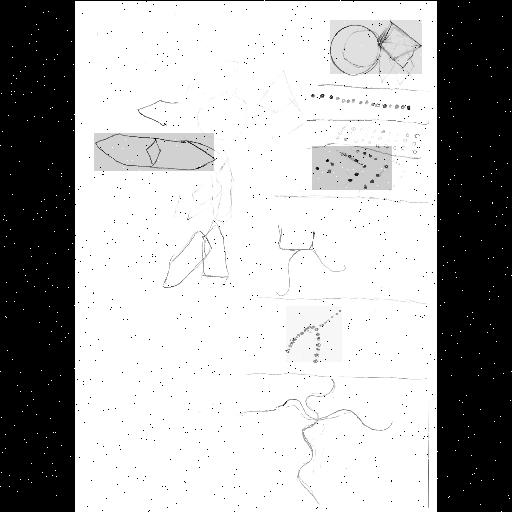shape-1: (330, 20, 422, 74)
shape-2: (311, 91, 411, 109)
shape-3: (335, 124, 419, 150)
shape-4: (312, 146, 392, 190)
shape-5: (278, 228, 346, 296)
shape-6: (286, 306, 342, 362)
shape-7: (236, 378, 392, 502)
shape-8: (163, 218, 229, 288)
shape-9: (94, 133, 214, 171)
